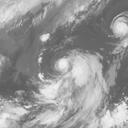cyclone: (110, 16, 127, 40), (55, 58, 70, 73)
